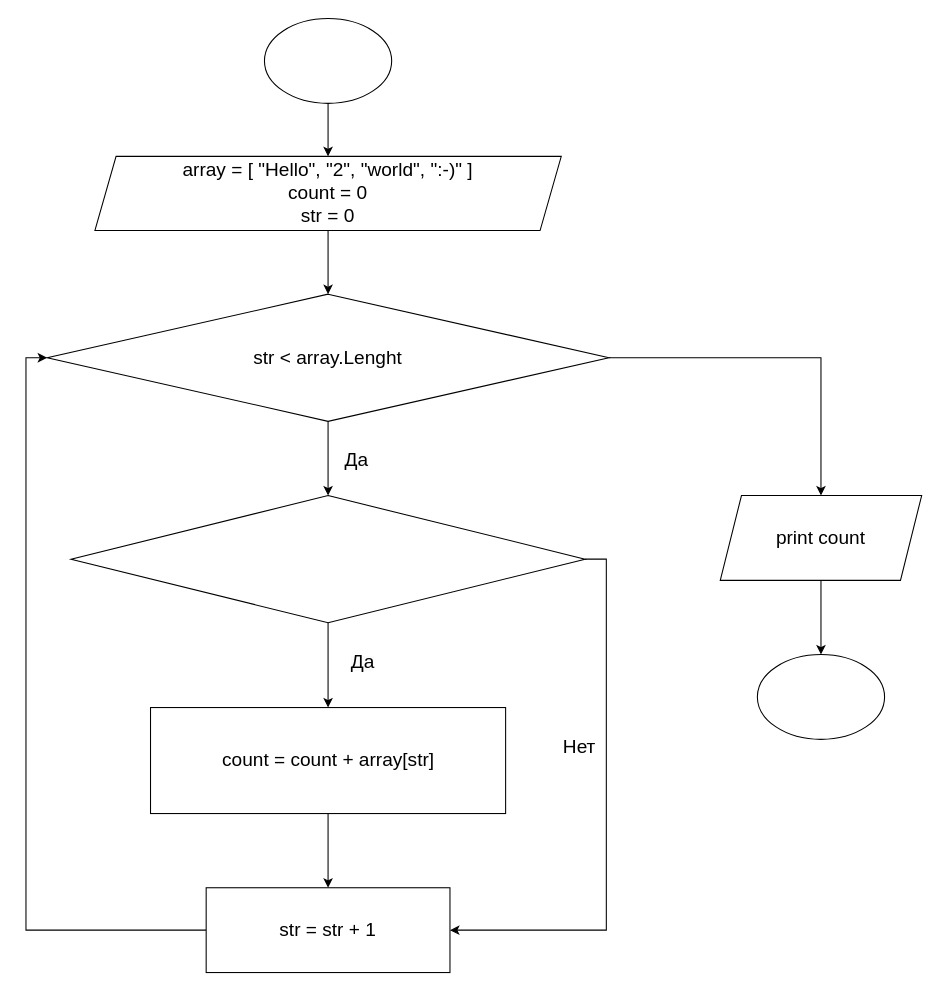
This 940x991 diagram has some shape labels left out. The shapes that lost their labels are listed below. From the top down, each one's centre as x and y in pixels, then its label:
point (327, 60): START
point (327, 558): array[str] <= 3
point (820, 696): FINISH
